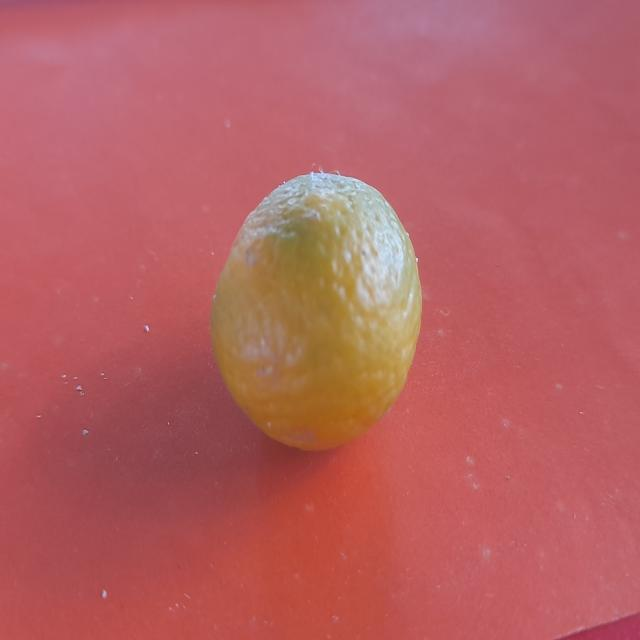greening: (216, 164, 418, 433)
